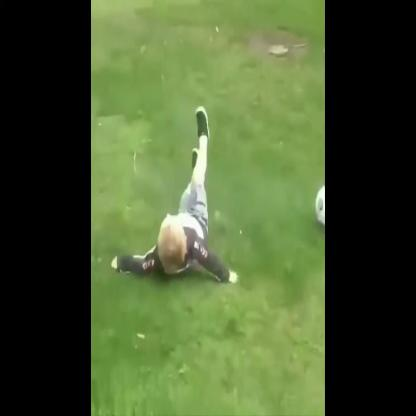Fall_Down: (110, 105, 239, 286)
